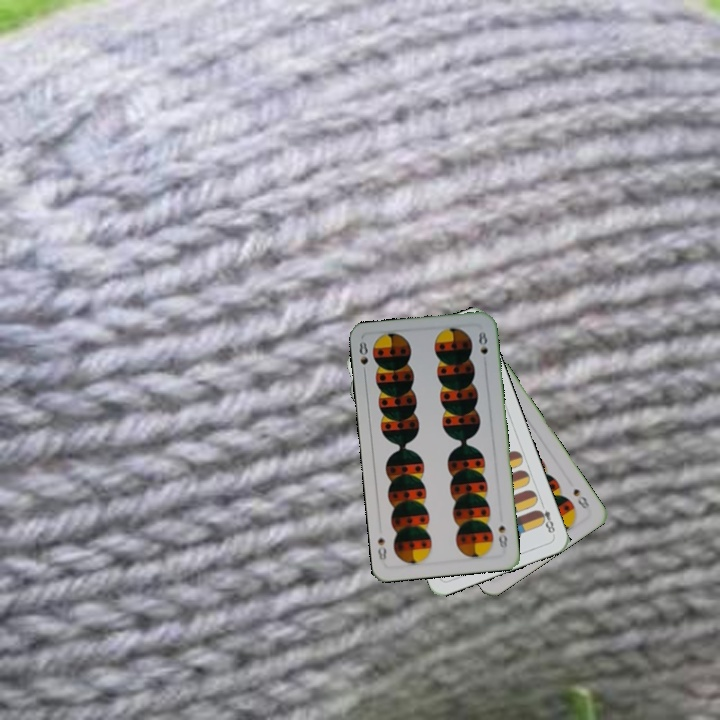E8: (533, 498, 558, 536)
S8: (355, 337, 371, 378), (569, 484, 592, 511), (494, 521, 510, 551)
